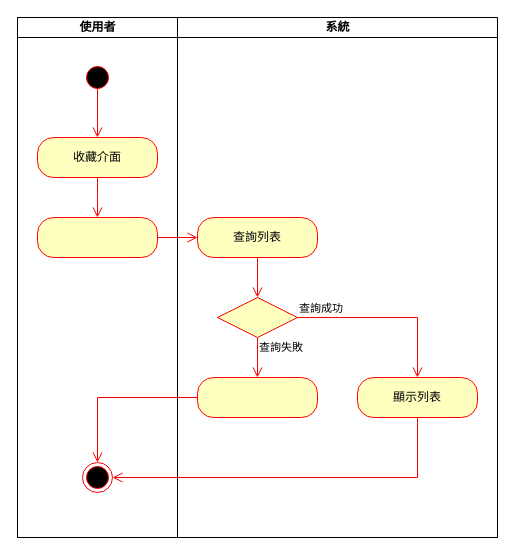
The diagram is 515 pixels wide and 555 high, and some of its shapes have lost their labels. Here are the shapes that lost their labels. From the top down, the centre of each, then its label:
At [97,237]: "進入列表".
At [257,397]: "顯示查無列表".
